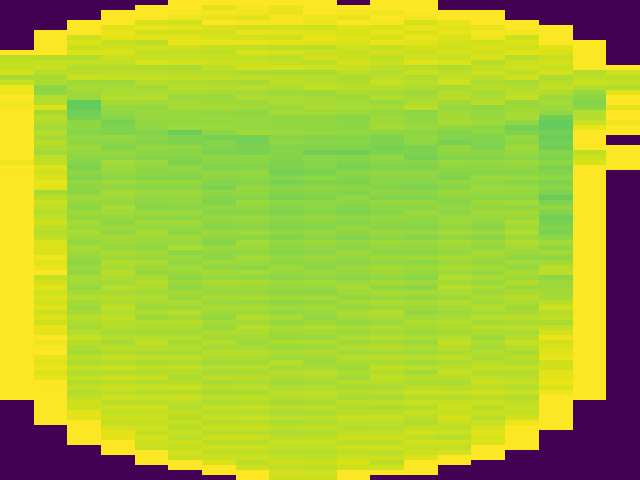cylinder: (1, 4, 640, 480)
